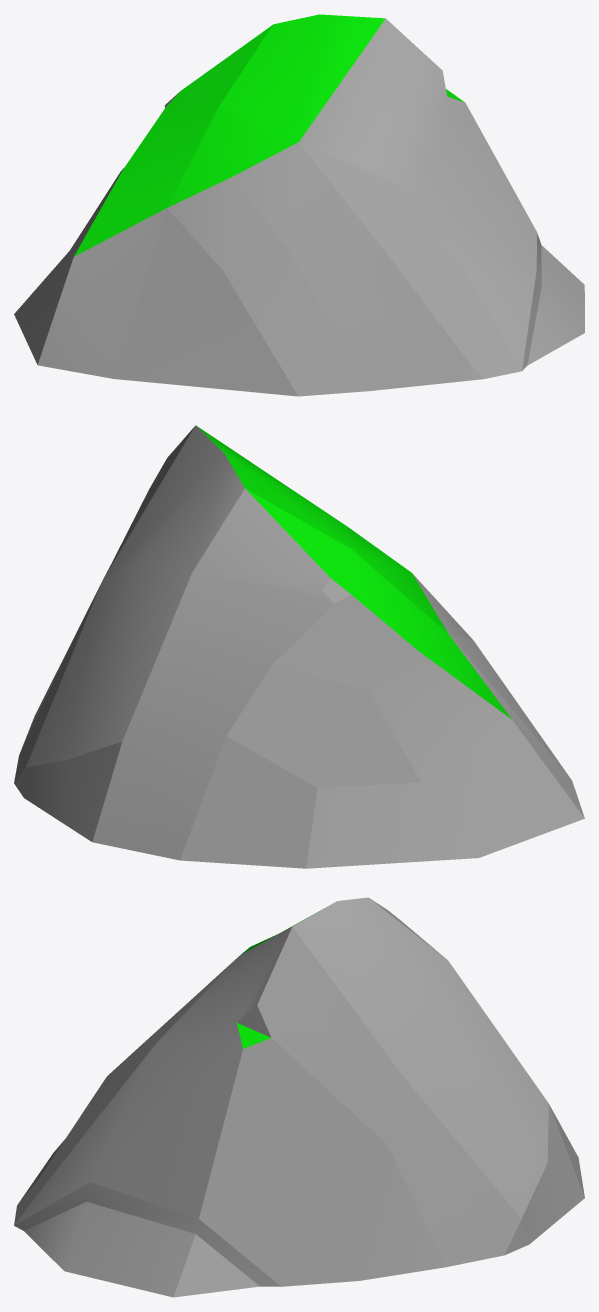
The model's file is rock_jungle_medium_B.fbx.
3 views of the same model, one above another, from view 1: azimuth 30°, elevation 25°; view 2: azimuth 150°, elevation 25°; view 3: azimuth 270°, elevation 25° (orthographic). The views are drawn at different scales.
Parts seen in each view (by area): view 1: rock_jungle_medium_B; view 2: rock_jungle_medium_B; view 3: rock_jungle_medium_B.
Boxes of the visible parts, left/top/right/bottom form: rock_jungle_medium_B: left=14, top=14, right=584, bottom=396; rock_jungle_medium_B: left=14, top=425, right=584, bottom=868; rock_jungle_medium_B: left=14, top=897, right=584, bottom=1297.
Bounding box in the file's own units: 77.83 × 39.94 × 70.36.
